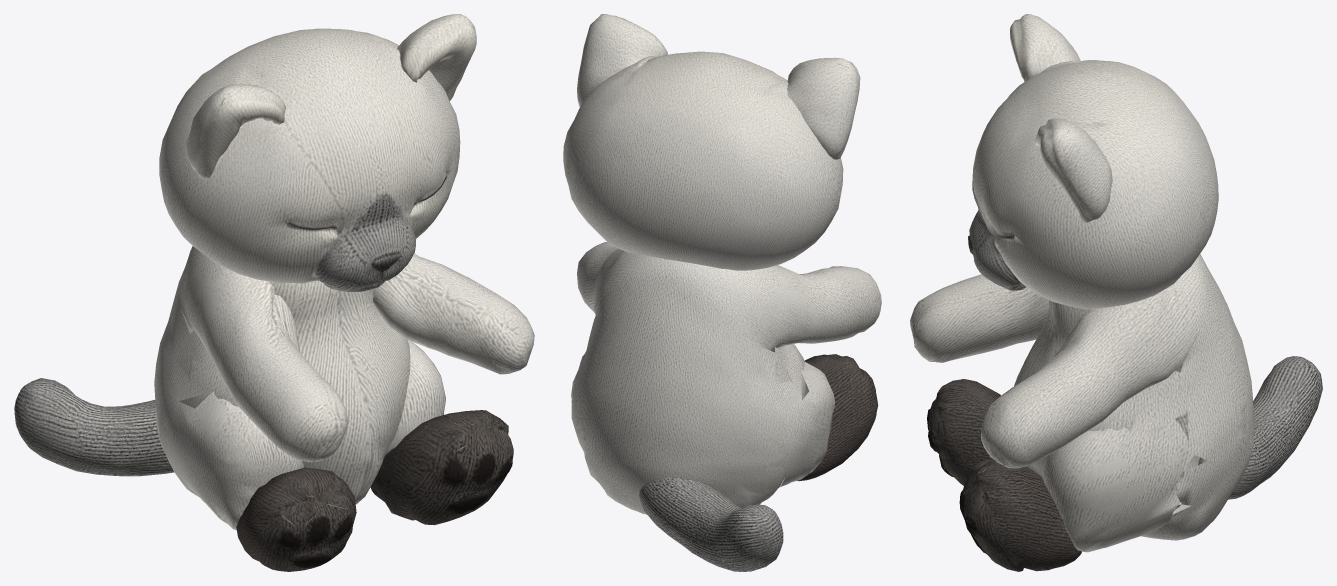
The model's file is Meshy_AI_Sleepy_Knit_Kitten_1020124929_texture.glb.
The picture shows the model from 3 angles, left to right: view 1: azimuth 30°, elevation 25°; view 2: azimuth 150°, elevation 25°; view 3: azimuth 270°, elevation 25°; orthographic projection. The views are drawn at different scales.
Size of the model in its own units: 0.7568 by 0.9507 by 0.7759.
1 material, 1 textured.
